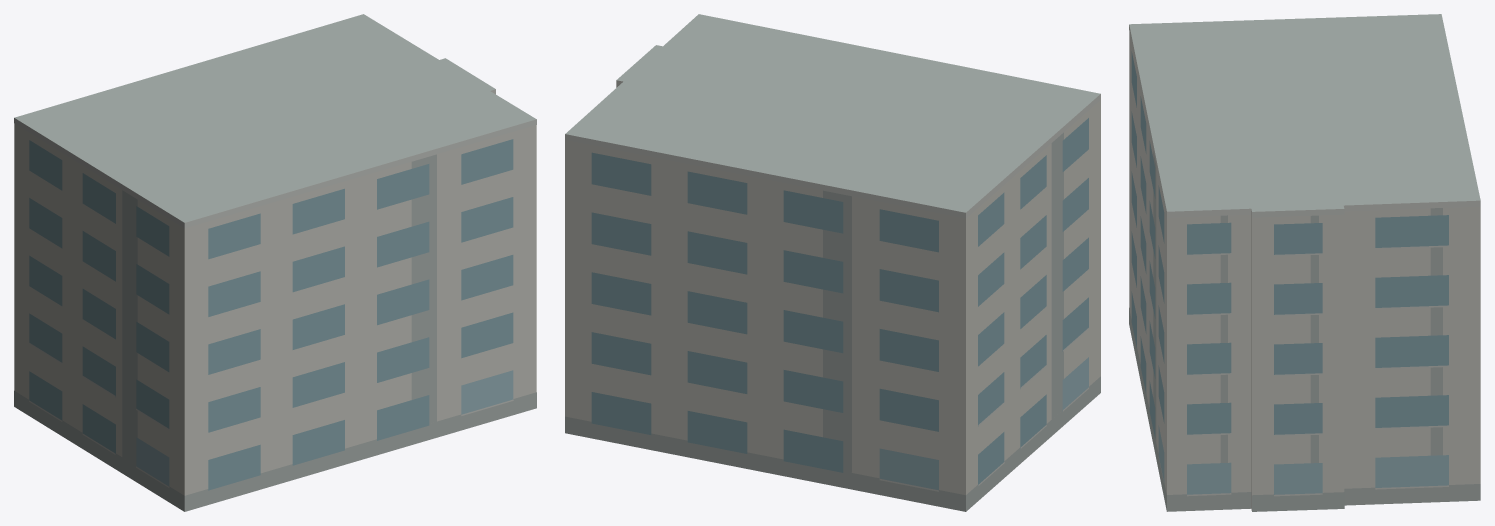
File: survey-upis-32634538.glb
The picture shows the model from 3 angles, left to right: view 1: azimuth 30°, elevation 25°; view 2: azimuth 150°, elevation 25°; view 3: azimuth 270°, elevation 25°; orthographic projection. The views are drawn at different scales.
Visible parts, largest first — view 1: survey-upis-32634538.tmp; view 2: survey-upis-32634538.tmp; view 3: survey-upis-32634538.tmp.
Part boxes in pixels (bbox=[...]): survey-upis-32634538.tmp: bbox=[14, 14, 536, 511]; survey-upis-32634538.tmp: bbox=[565, 14, 1100, 511]; survey-upis-32634538.tmp: bbox=[1129, 14, 1480, 511].
Size of the model in its own units: 17.55 by 12.4 by 13.18.
